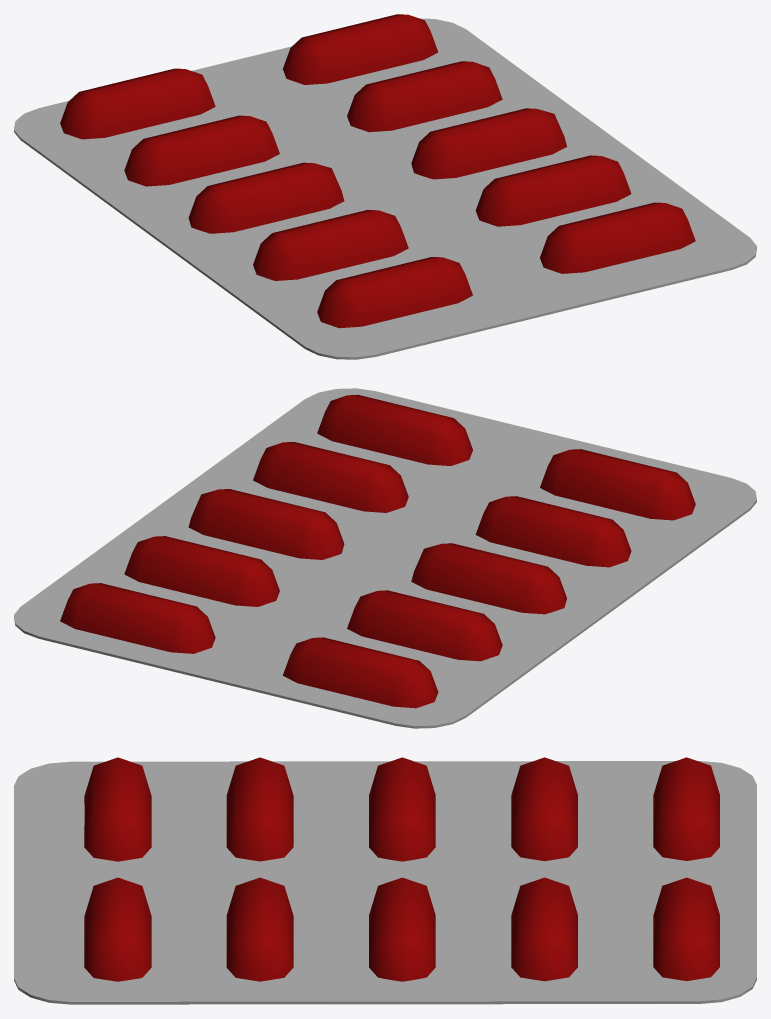
The model's file is Pills.fbx.
3 views of the same model, one above another, from view 1: azimuth 30°, elevation 25°; view 2: azimuth 150°, elevation 25°; view 3: azimuth 270°, elevation 25° (orthographic). The views are drawn at different scales.
Visible parts, largest first — view 1: Pills; view 2: Pills; view 3: Pills.
Boxes of the visible parts, box(x1,y1,x2,y2) form: Pills: box(14, 14, 756, 359); Pills: box(14, 388, 756, 728); Pills: box(14, 757, 756, 1004).
Size of the model in its own units: 6 by 0.4796 by 7.84.
1 material, 1 textured.
